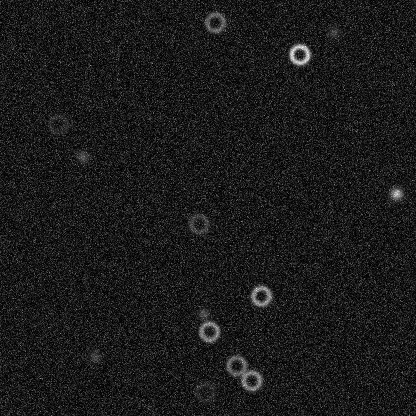Ring: (248, 283, 272, 307), (197, 319, 221, 343), (192, 380, 216, 404), (224, 353, 248, 377), (46, 112, 70, 136), (287, 42, 311, 66), (186, 211, 210, 235), (239, 368, 263, 392), (203, 10, 227, 34)
Spot: (74, 148, 90, 164), (86, 348, 102, 364), (195, 305, 211, 321), (325, 24, 341, 40), (388, 185, 404, 201)
